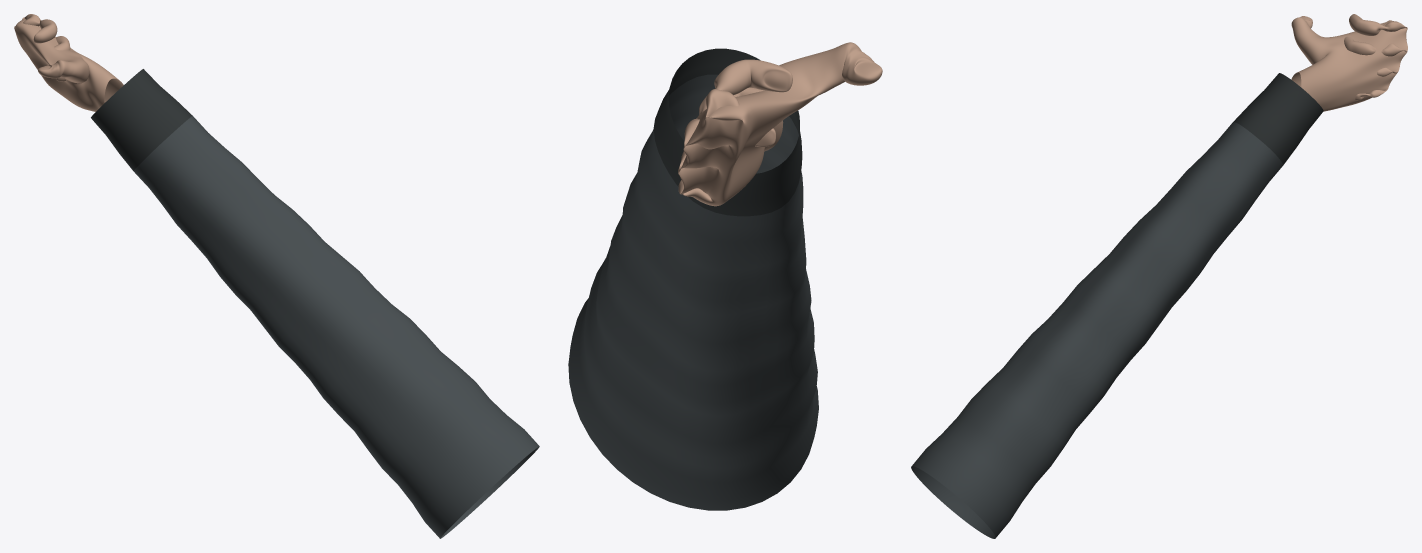
The model's file is shoe.glb.
3 views of the same model, side by side, from view 1: azimuth 30°, elevation 25°; view 2: azimuth 150°, elevation 25°; view 3: azimuth 270°, elevation 25° (orthographic). The views are drawn at different scales.
Parts seen in each view (by area): view 1: RightHand_shoe_Sleeve, RightHand_shoe; view 2: RightHand_shoe_Sleeve, RightHand_shoe; view 3: RightHand_shoe_Sleeve, RightHand_shoe.
Boxes of the visible parts, bbox=[...] form: RightHand_shoe_Sleeve: bbox=[91, 69, 539, 538]; RightHand_shoe: bbox=[14, 14, 123, 111]; RightHand_shoe_Sleeve: bbox=[568, 48, 818, 510]; RightHand_shoe: bbox=[678, 42, 882, 206]; RightHand_shoe_Sleeve: bbox=[911, 73, 1323, 538]; RightHand_shoe: bbox=[1291, 14, 1407, 111].
Bounding box in the file's own units: 0.3634 × 0.4462 × 0.4858.
